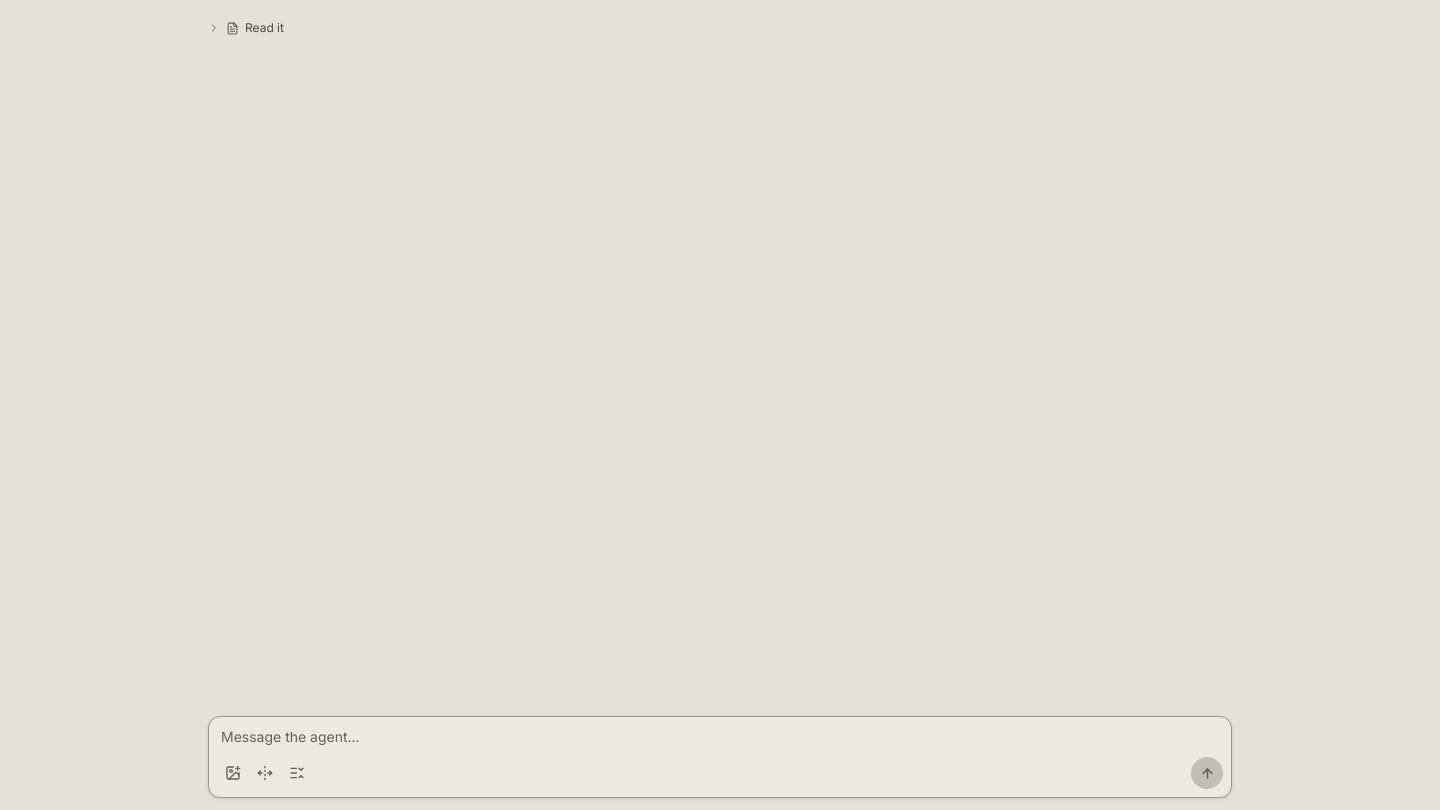
Test: WorkspaceChat rendering › shows a read of a markdown file with its own fences
This screenshot has width=1440, height=810.
Click the button "Read it" at (264,28), box [202, 16, 1238, 40]
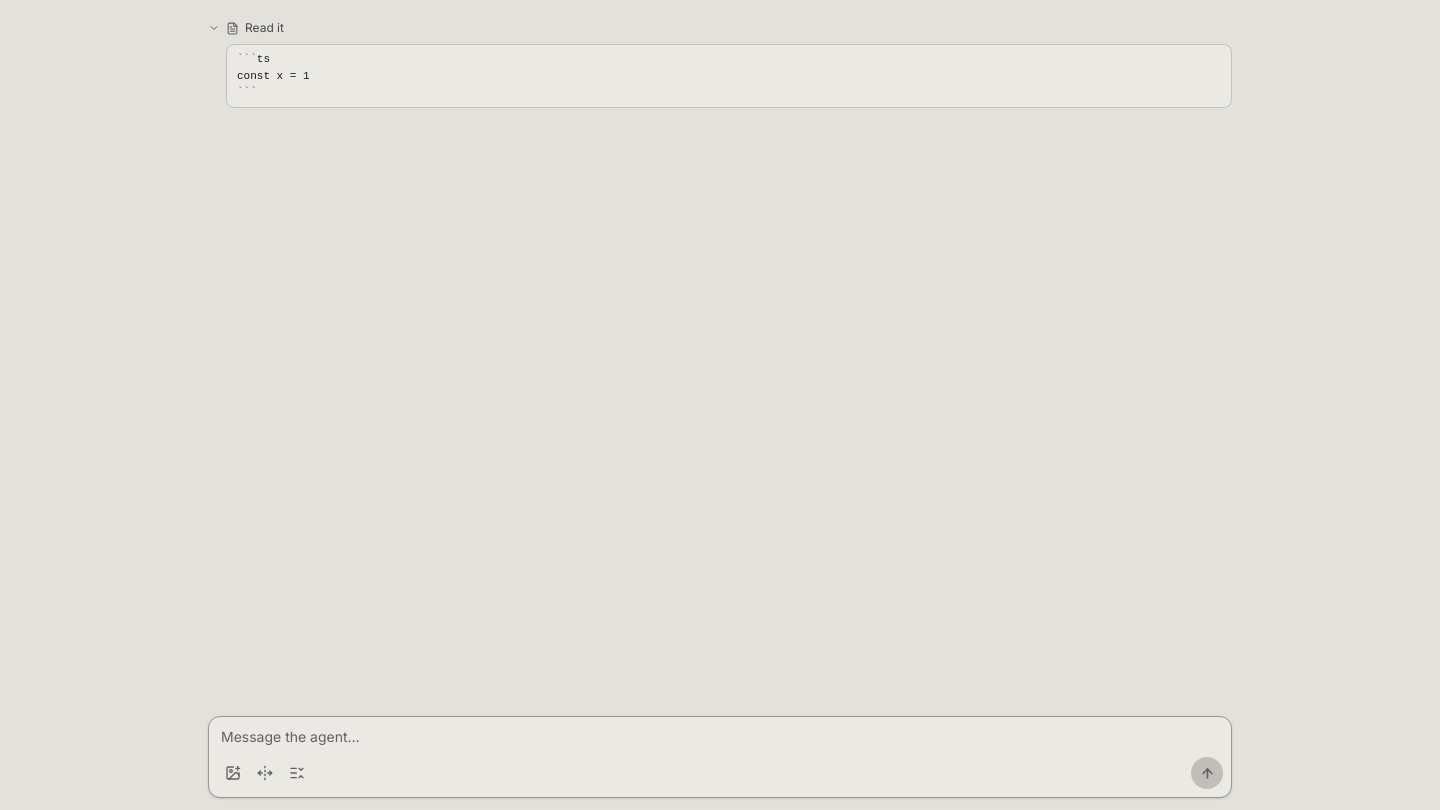
Expected: the element with class "diff-hl" shows "```ts", [237, 53, 310, 98]
